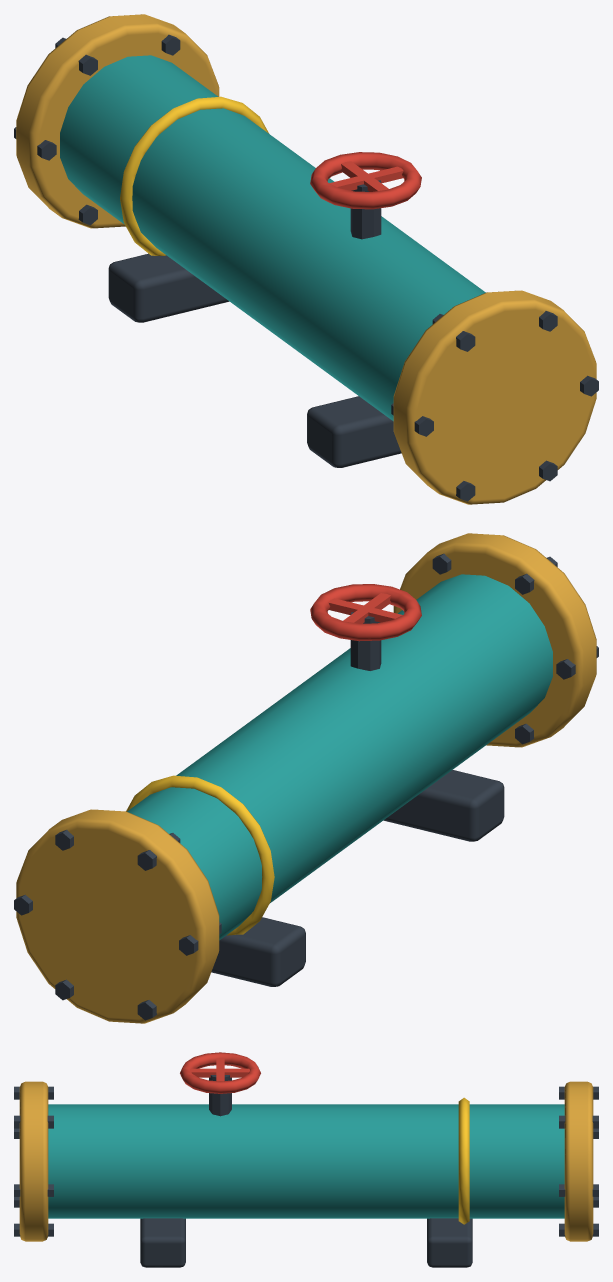
File: pipe_straight.glb
3 views of the same model, one above another, from view 1: azimuth 30°, elevation 25°; view 2: azimuth 150°, elevation 25°; view 3: azimuth 270°, elevation 25° (orthographic). The views are drawn at different scales.
Parts seen in each view (by area): view 1: pipe_straight_body; view 2: pipe_straight_body; view 3: pipe_straight_body.
Part boxes in pixels (x1,y1,x2,y2): pipe_straight_body: [14, 14, 598, 504]; pipe_straight_body: [14, 533, 598, 1023]; pipe_straight_body: [14, 1052, 598, 1267].
Bounding box in the file's own units: 0.5515 × 0.6591 × 2.04.
